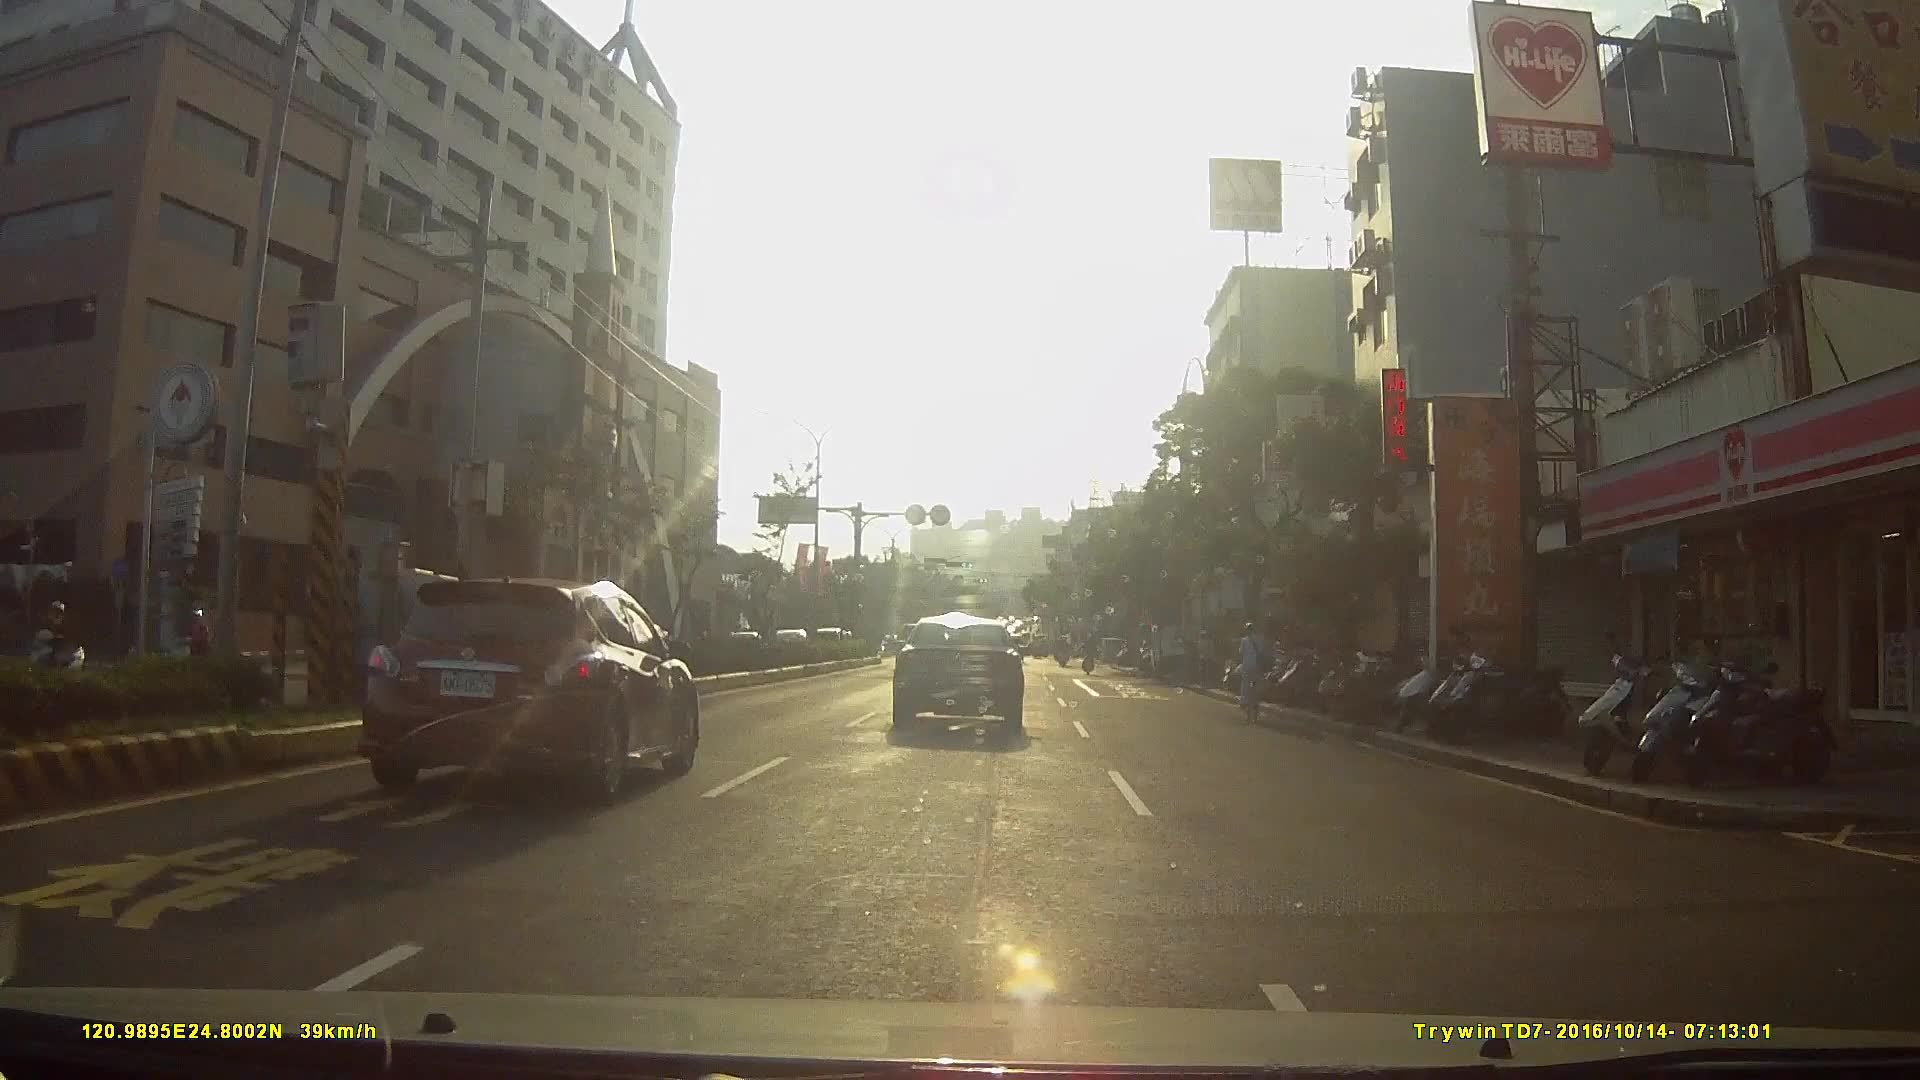rider: (10, 598, 105, 705), (168, 608, 230, 683), (1234, 621, 1275, 723)
vehicle: (359, 572, 714, 806), (887, 615, 1042, 749), (1146, 619, 1211, 682), (763, 607, 822, 662)
